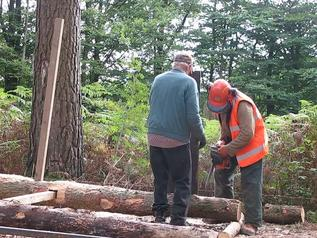sit: (204, 71, 235, 134)
